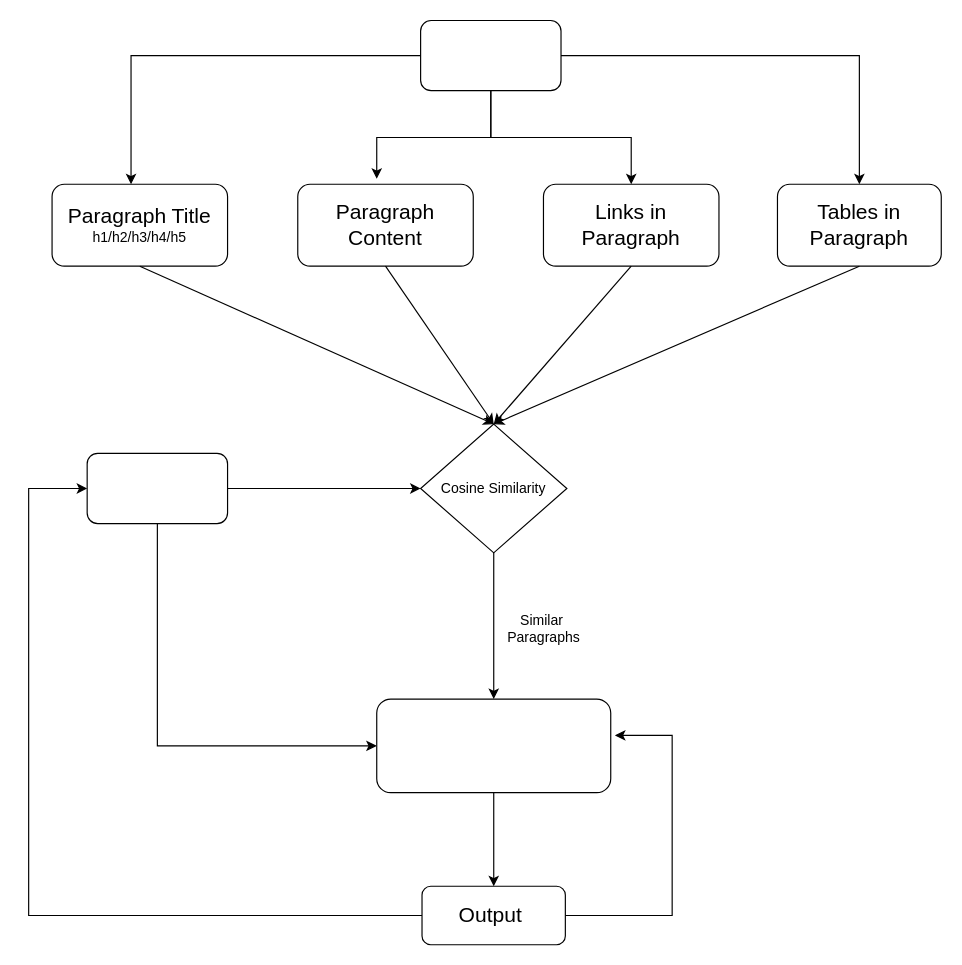
The diagram is 962 pixels wide and 965 high, and some of its shapes have lost their labels. The centre of each missing label's shape, as x and y in pixels:
"LangChain" goes at point (493, 745).
"URL" goes at point (490, 55).
"User Query" goes at point (157, 488).
